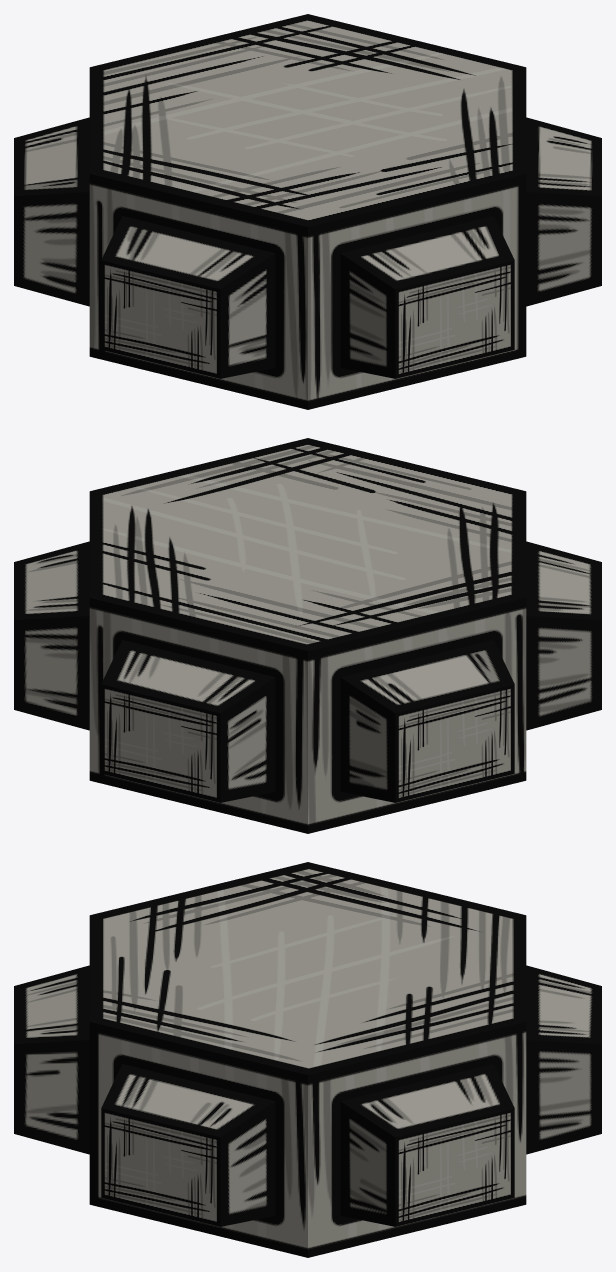
File: Gear.FBX
3 renders of one model, top to bottom at view 1: azimuth 30°, elevation 25°; view 2: azimuth 150°, elevation 25°; view 3: azimuth 270°, elevation 25°, orthographic.
Parts seen in each view (by area): view 1: Gear; view 2: Gear; view 3: Gear.
Part boxes in pixels (x1,y1,x2,y2): Gear: [14, 14, 601, 409]; Gear: [14, 438, 601, 833]; Gear: [14, 862, 601, 1257].
Bounding box in the file's own units: 45.15 × 15.75 × 45.91.
